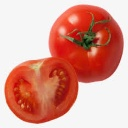tomato: (49, 4, 123, 82), (4, 57, 79, 122)
